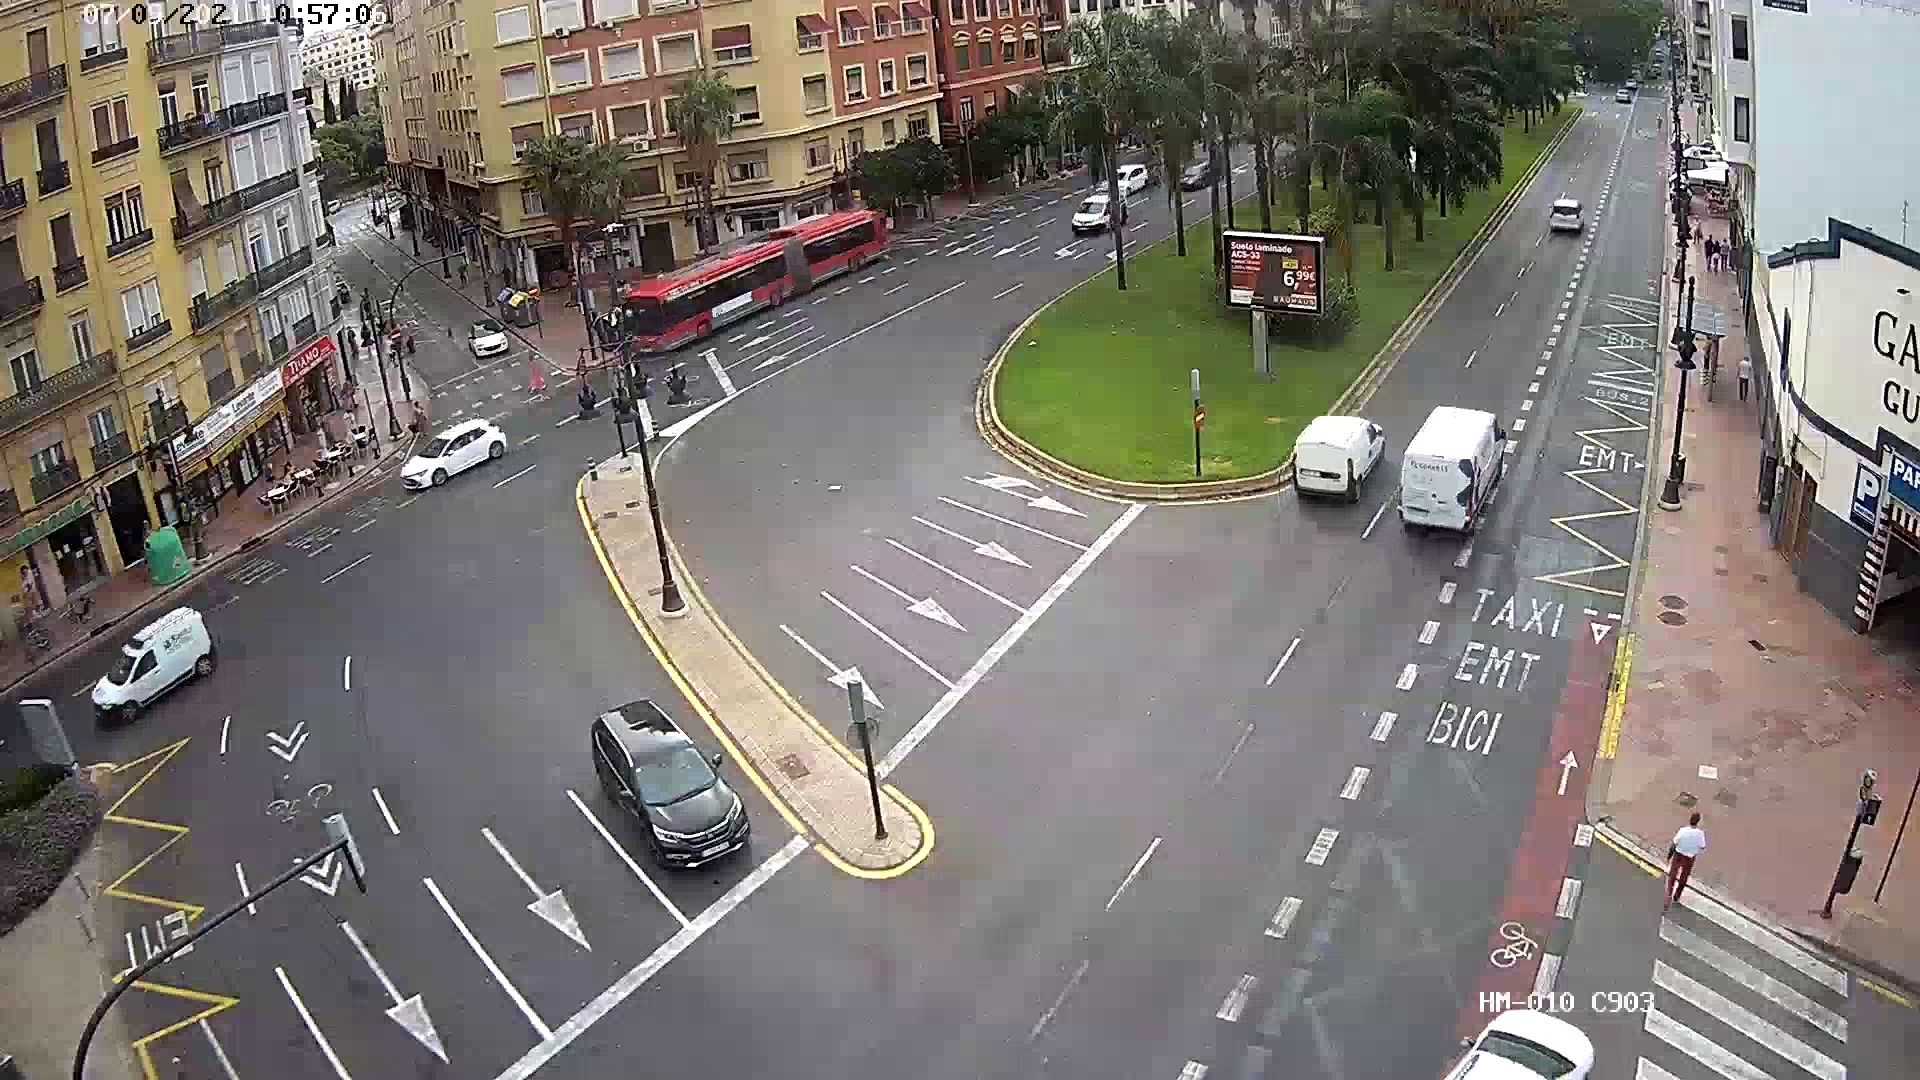Cars: (575, 695, 756, 893), (1399, 392, 1497, 549), (382, 415, 509, 483), (1292, 411, 1378, 498), (1542, 195, 1600, 243), (458, 319, 513, 367)
